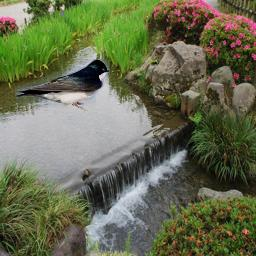Swallow: (15, 59, 110, 111)
